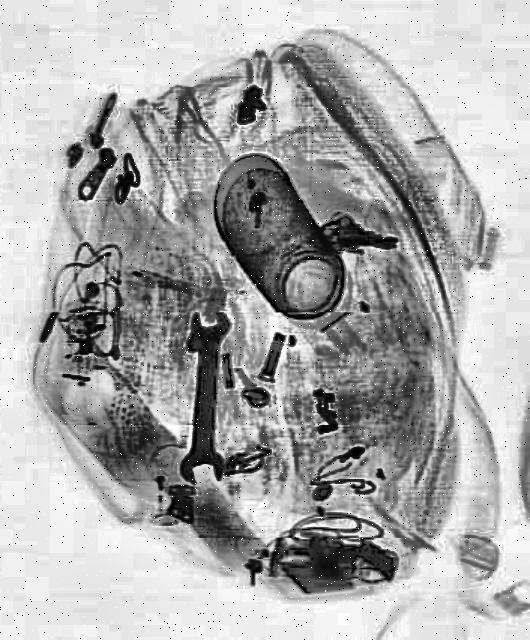Wrench: (182, 310, 234, 482)
